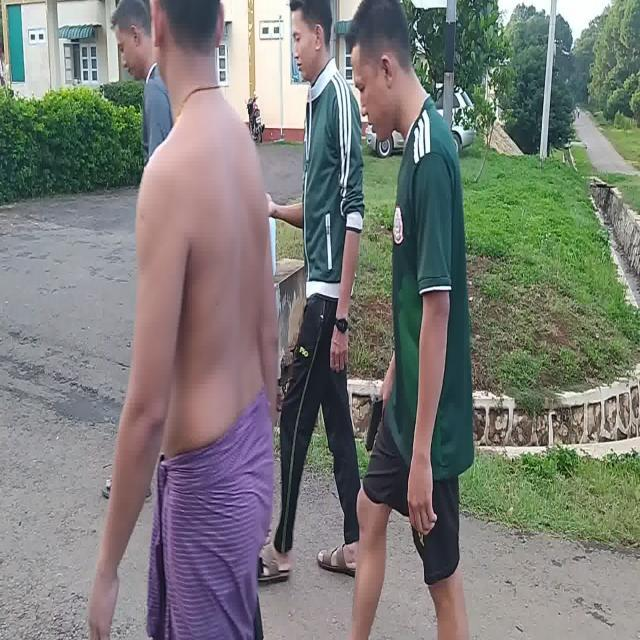gun: (365, 396, 383, 450)
